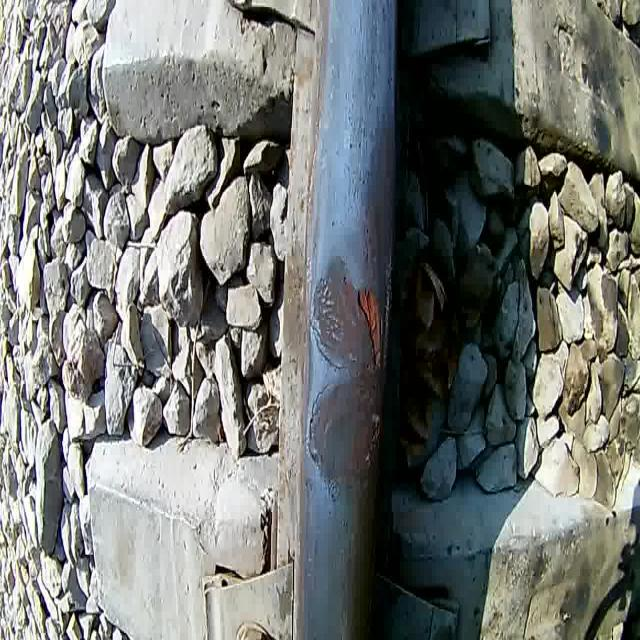Cracks: (306, 267, 351, 377), (306, 374, 336, 473)
Spallings: (351, 274, 387, 378)
Squats: (304, 236, 390, 506)
